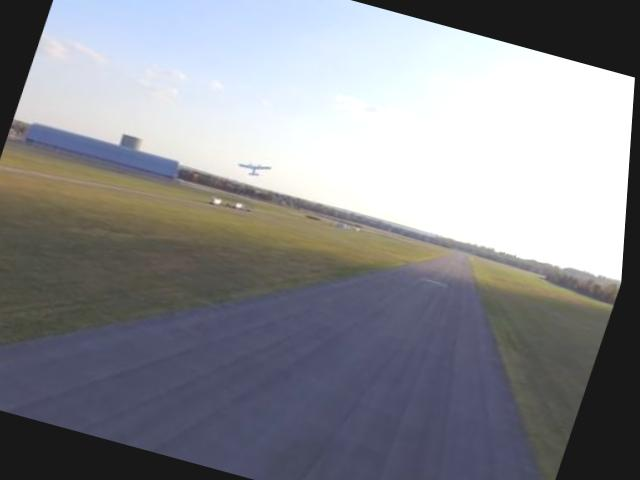uav: (238, 157, 276, 180)
